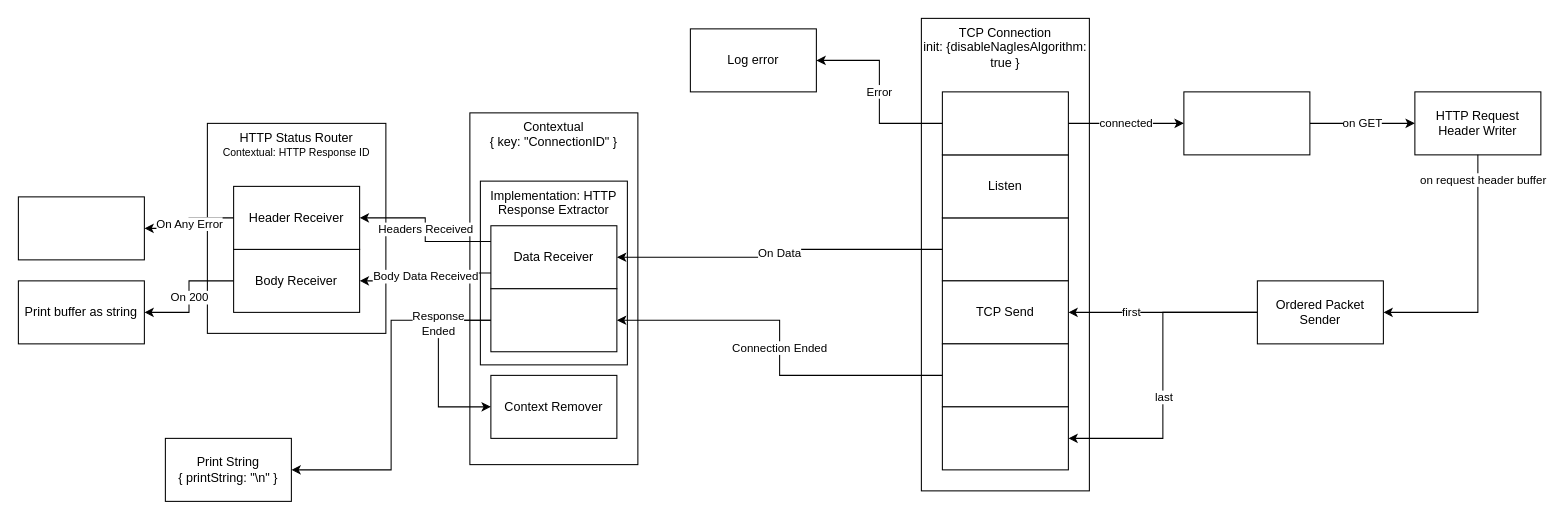
The diagram is 1563 pixels wide and 520 high, and some of its shapes have lost their labels. Each missing label, with the centre of its shape:
"Connect" goes at (1004,123).
"Create HTTP Get Request" goes at (1246,123).
"Disconnector" goes at (1004,375).
"Log HTTP Error" goes at (80,228).
"Response Ender" goes at (553,320).
"Shutdown sender" goes at (1004,438).
"TCP Receive" goes at (1004,249).
